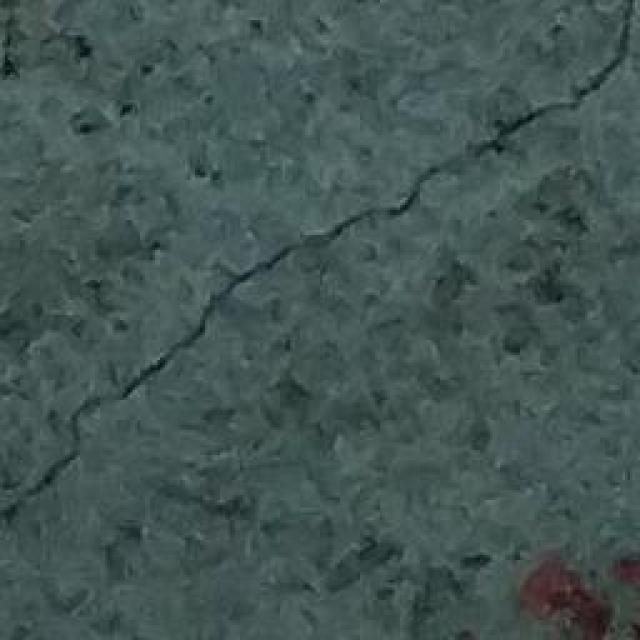Diagonal: (1, 2, 640, 524)
